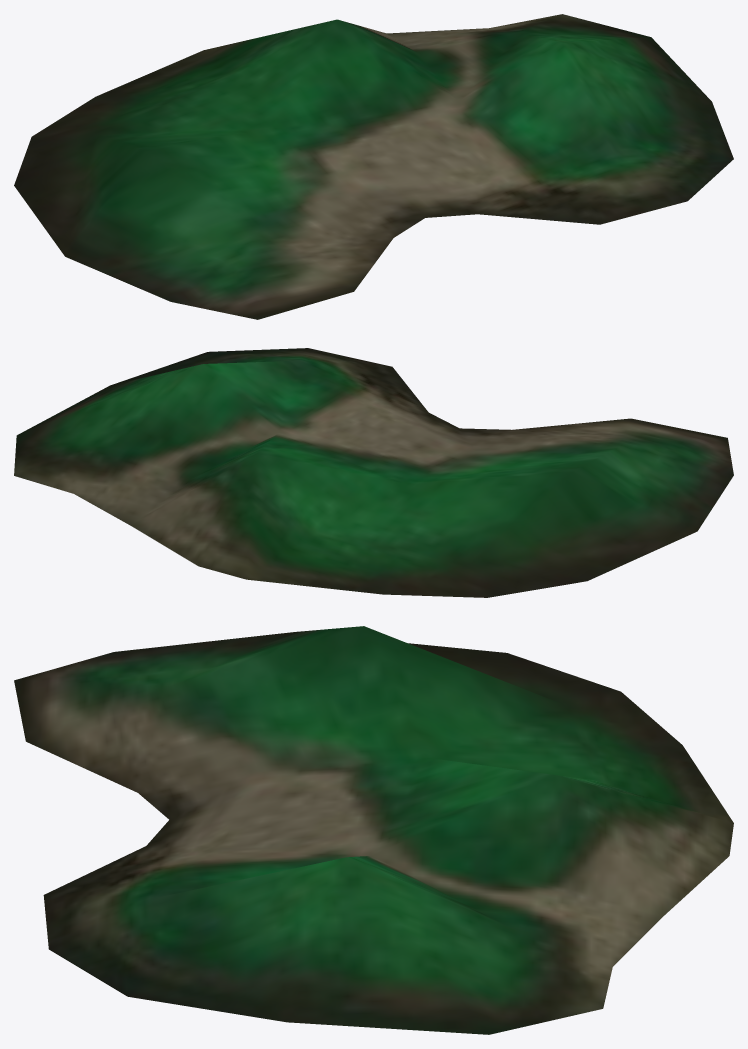
File: pir_m_are_isl_cangrejos_low.fbx
3 views of the same model, one above another, from view 1: azimuth 30°, elevation 25°; view 2: azimuth 150°, elevation 25°; view 3: azimuth 270°, elevation 25° (orthographic). The views are drawn at different scales.
Parts seen in each view (by area): view 1: horizon_lod; view 2: horizon_lod; view 3: horizon_lod.
Boxes of the visible parts, x1,y1,x2,y2 form: horizon_lod: (14, 14, 733, 319); horizon_lod: (14, 348, 733, 597); horizon_lod: (14, 626, 733, 1034).
Bounding box in the file's own units: 108914 × 11242 × 82265.
Materials: 1 (1 with a texture image).
